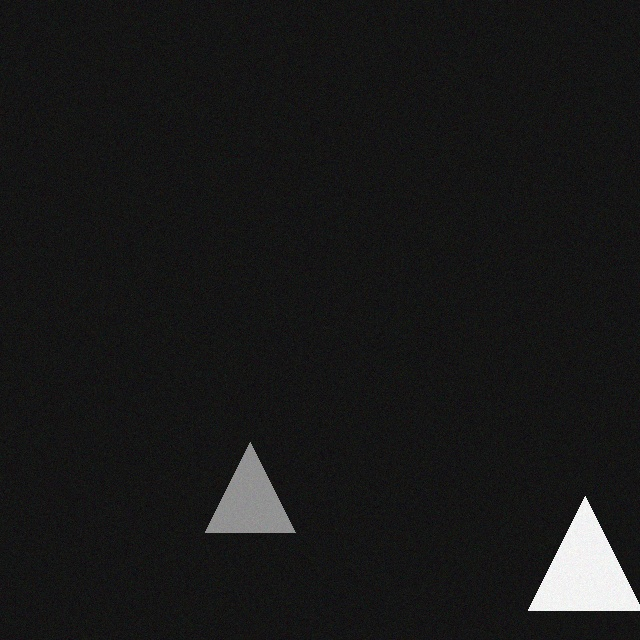triangle: (521, 500, 635, 614), (198, 446, 288, 536)
